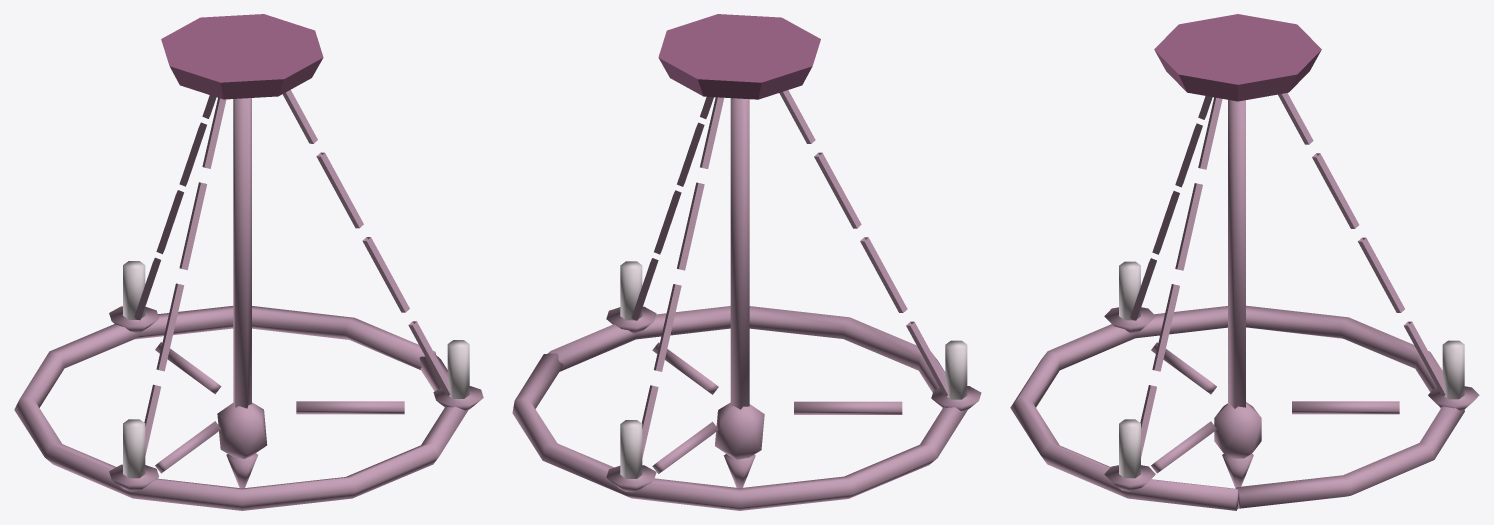
File: pink_dungeon_chandelier_v0.glb
The picture shows the model from 3 angles, left to right: view 1: azimuth 30°, elevation 25°; view 2: azimuth 150°, elevation 25°; view 3: azimuth 270°, elevation 25°; orthographic projection.
Visible parts, largest first — view 1: pink_dungeon_chandelier_v0; view 2: pink_dungeon_chandelier_v0; view 3: pink_dungeon_chandelier_v0.
Part boxes in pixels (bbox=[...]): pink_dungeon_chandelier_v0: bbox=[14, 14, 483, 510]; pink_dungeon_chandelier_v0: bbox=[512, 14, 981, 510]; pink_dungeon_chandelier_v0: bbox=[1010, 14, 1479, 510].
Bounding box in the file's own units: 1.14 × 1.23 × 1.17.
